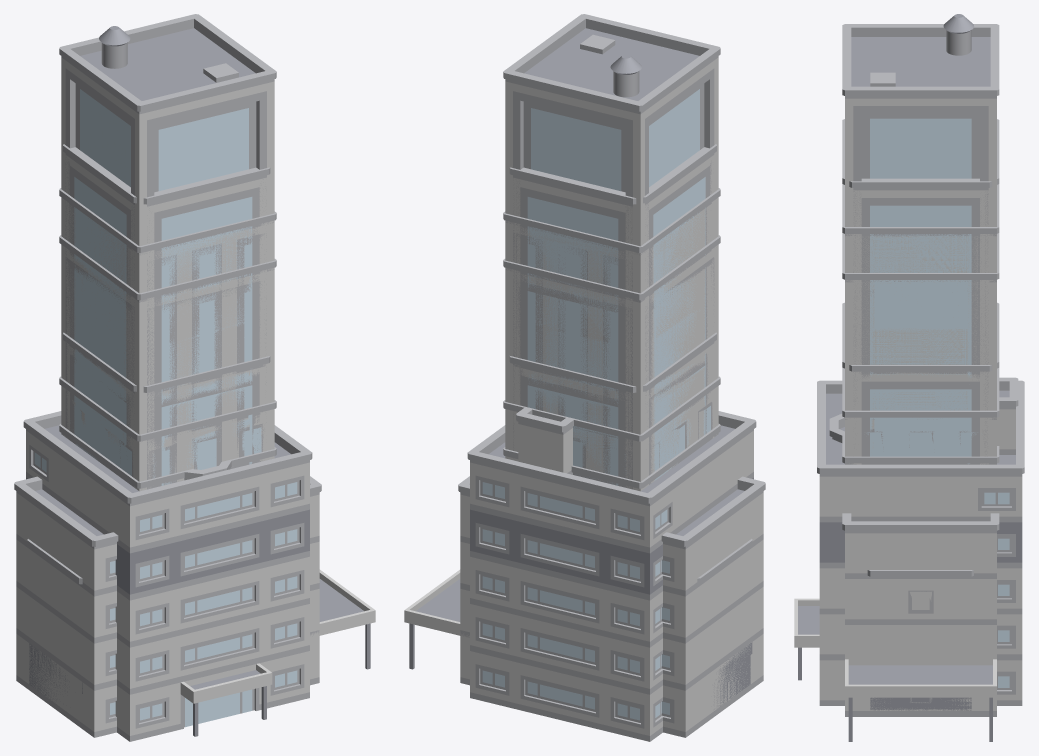
Rendered from all_buildings_together.glb.
The picture shows the model from 3 angles, left to right: view 1: azimuth 30°, elevation 25°; view 2: azimuth 150°, elevation 25°; view 3: azimuth 270°, elevation 25°; orthographic projection. The views are drawn at different scales.
Parts seen in each view (by area): view 1: large_buildingG, skyscraperD, skyscraperB, large_buildingA, skyscraperF, skyscraperA, skyscraperC, skyscraperE, large_buildingF, large_buildingE; view 2: large_buildingG, skyscraperB, skyscraperD, large_buildingA, skyscraperF, skyscraperA, skyscraperC, skyscraperE, large_buildingF, large_buildingE; view 3: large_buildingG, skyscraperD, skyscraperB, large_buildingA, skyscraperA, skyscraperF, large_buildingF, skyscraperC, skyscraperE, large_buildingE.
Part boxes in pixels (<box>): large_buildingG: <box>23,411,375,741</box>; skyscraperD: <box>59,14,276,490</box>; skyscraperB: <box>63,144,270,488</box>; large_buildingA: <box>14,476,321,737</box>; skyscraperF: <box>59,188,276,490</box>; skyscraperA: <box>63,332,270,487</box>; skyscraperC: <box>59,235,276,490</box>; skyscraperE: <box>59,376,276,488</box>; large_buildingF: <box>27,539,82,711</box>; large_buildingE: <box>59,424,276,488</box>; large_buildingG: <box>404,407,756,741</box>; skyscraperB: <box>509,144,716,488</box>; skyscraperD: <box>503,14,720,488</box>; large_buildingA: <box>458,476,765,737</box>; skyscraperF: <box>503,188,720,489</box>; skyscraperA: <box>509,332,716,488</box>; skyscraperC: <box>503,235,720,491</box>; skyscraperE: <box>503,376,720,486</box>; large_buildingF: <box>697,539,752,709</box>; large_buildingE: <box>503,424,720,489</box>; large_buildingG: <box>794,377,1024,741</box>; skyscraperD: <box>842,14,999,463</box>; skyscraperB: <box>842,119,999,464</box>; large_buildingA: <box>842,513,999,716</box>; skyscraperA: <box>842,302,999,464</box>; skyscraperF: <box>842,184,999,452</box>; large_buildingF: <box>867,570,973,716</box>; skyscraperC: <box>842,233,999,463</box>; skyscraperE: <box>842,367,999,464</box>; large_buildingE: <box>829,413,999,463</box>.
Bounding box in the file's own units: 2.52 × 5.5 × 1.82.
